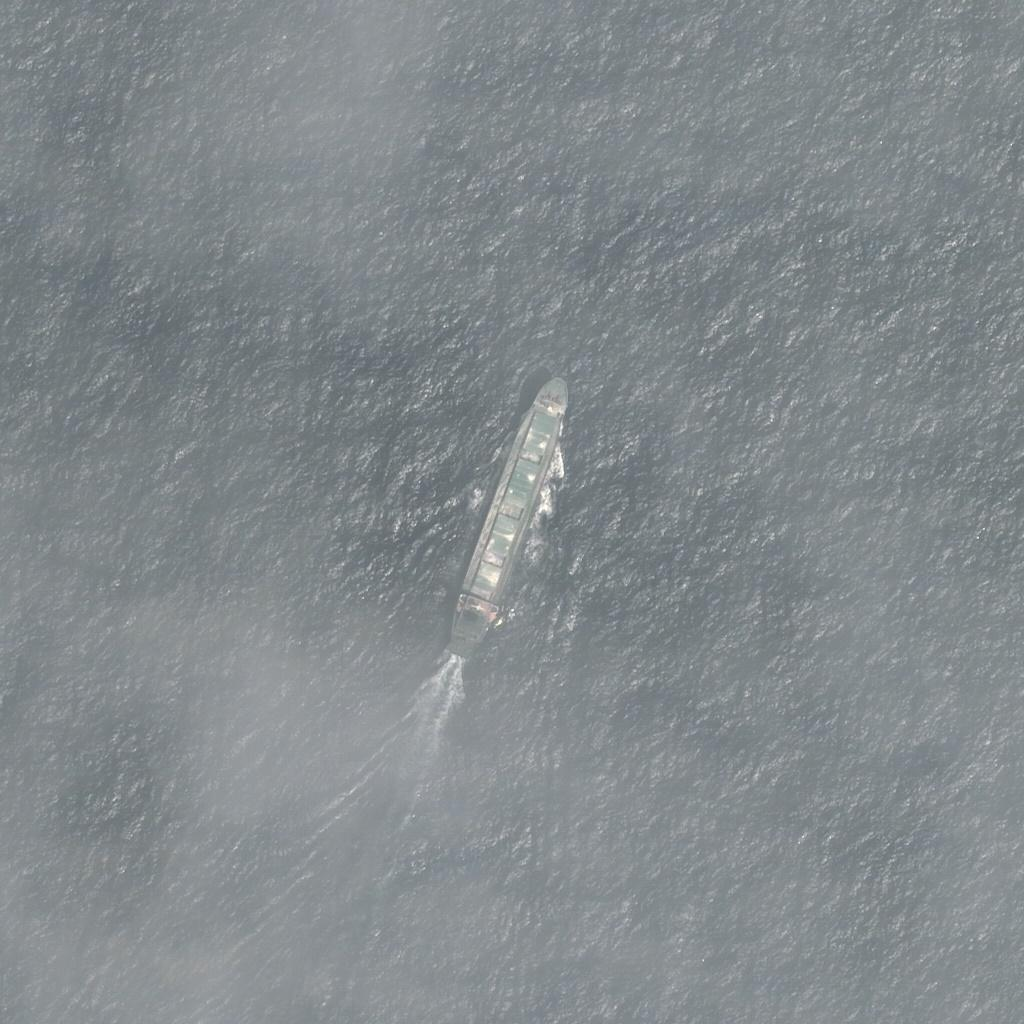ship: (446, 372, 571, 664)
